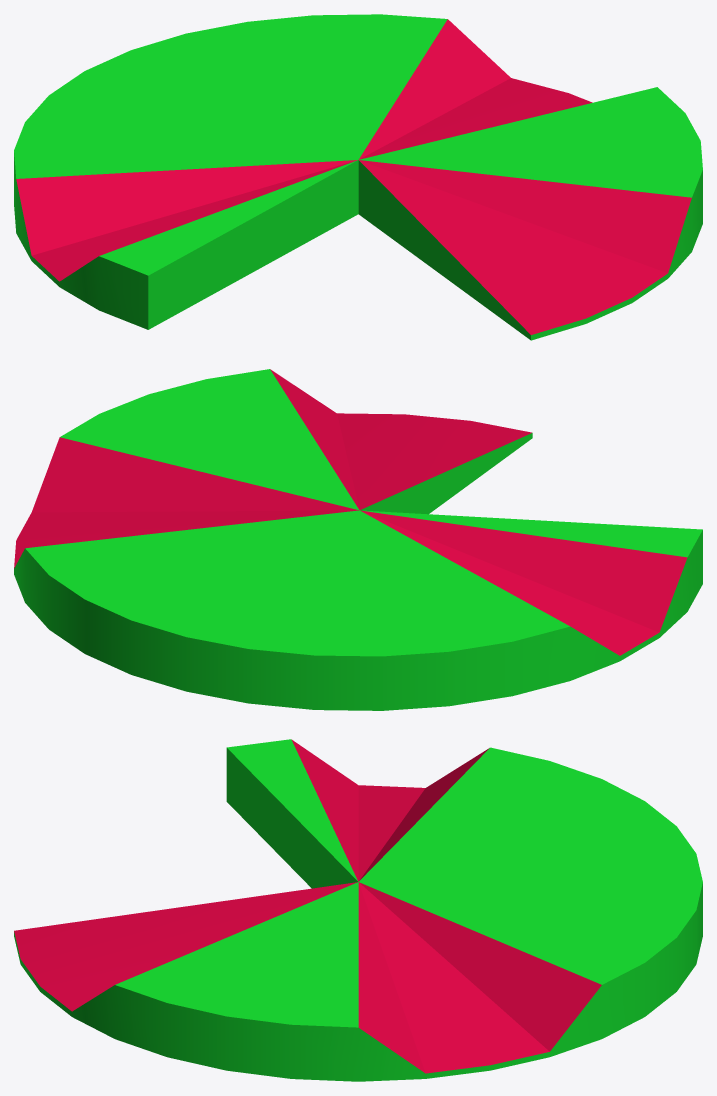
Rendered from Platofrm3.fbx.
3 renders of one model, top to bottom at view 1: azimuth 30°, elevation 25°; view 2: azimuth 150°, elevation 25°; view 3: azimuth 270°, elevation 25°, orthographic.
Parts seen in each view (by area): view 1: Platform 3; view 2: Platform 3; view 3: Platform 3.
Boxes of the visible parts, left/top/right/bottom form: Platform 3: left=14, top=14, right=702, bottom=340; Platform 3: left=14, top=369, right=702, bottom=710; Platform 3: left=14, top=739, right=702, bottom=1081.
Size of the model in its own units: 384 by 33.33 by 384.
